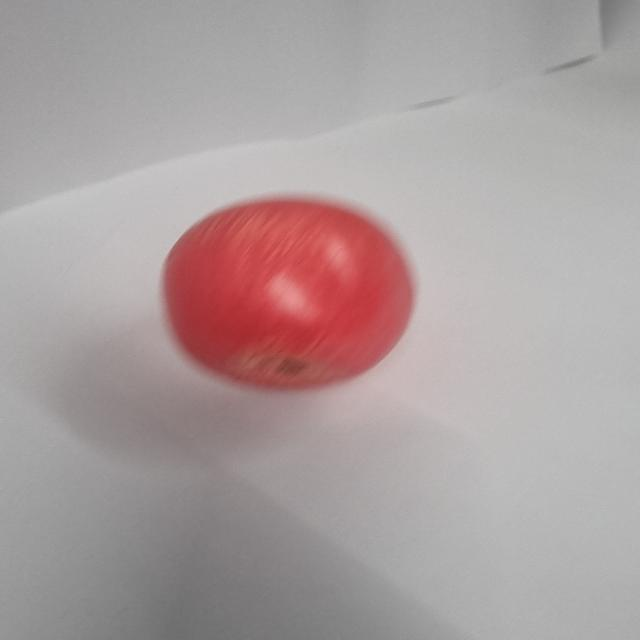apple: (162, 200, 414, 392)
